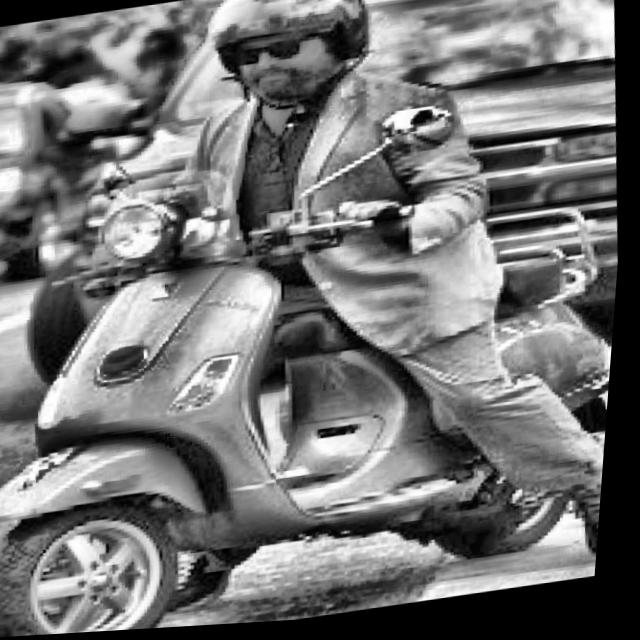motorcycle: (0, 66, 634, 640)
